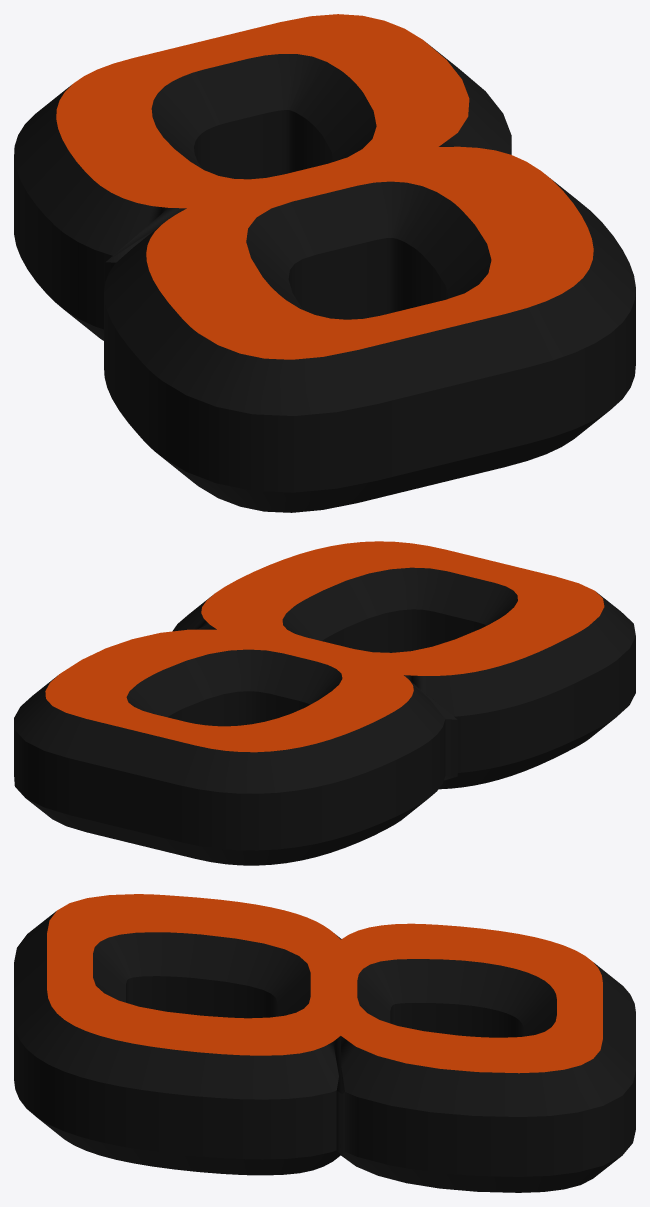
The picture shows the model from 3 angles, top to bottom: view 1: azimuth 30°, elevation 25°; view 2: azimuth 150°, elevation 25°; view 3: azimuth 270°, elevation 25°; orthographic projection. The views are drawn at different scales.
Visible parts, largest first — view 1: Text; view 2: Text; view 3: Text.
Boxes of the visible parts, bbox=[...] form: Text: bbox=[14, 14, 635, 512]; Text: bbox=[14, 541, 635, 865]; Text: bbox=[14, 894, 635, 1192].
Size of the model in its own units: 0.5935 by 0.16 by 0.7533.
